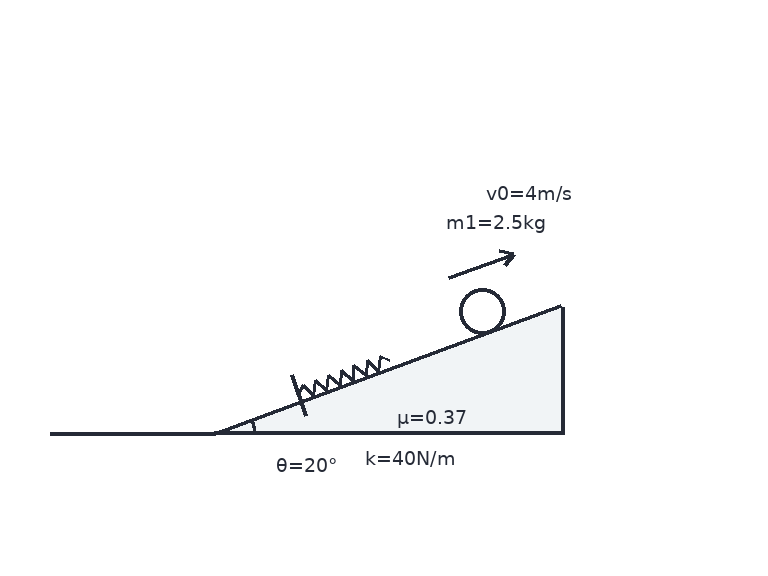ball: (457, 286, 507, 336)
ramp: (212, 304, 565, 435)
spring: (296, 354, 391, 397)
